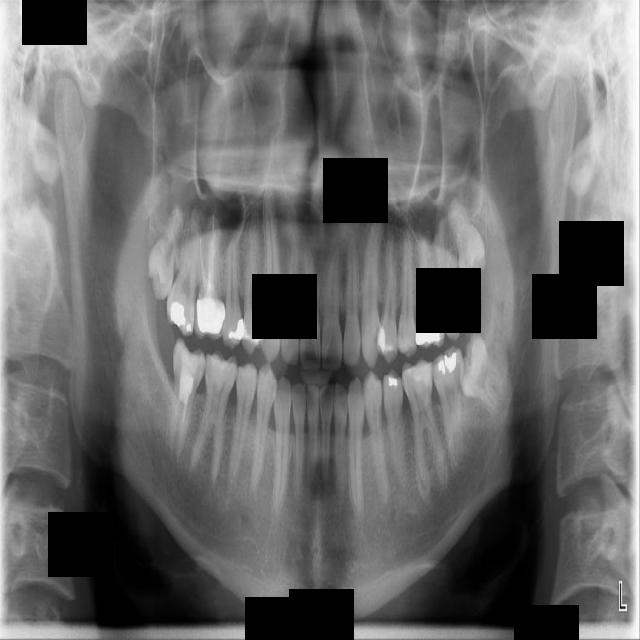3M ESPE Implant: (141, 196, 188, 302)
52: (423, 342, 473, 393), (167, 337, 209, 392), (162, 281, 200, 337), (440, 283, 474, 343), (191, 294, 228, 342), (414, 302, 446, 350), (401, 355, 434, 399), (240, 310, 265, 357), (376, 319, 399, 363), (280, 317, 299, 366), (222, 309, 244, 351), (382, 367, 404, 408)
73: (164, 373, 201, 461), (194, 205, 224, 303), (624, 618, 628, 623)
BioHorizons Implant: (429, 208, 477, 343)
BioLife Implant: (445, 192, 491, 293)
Biomet 3i Implant: (441, 329, 517, 426)
Blue Sky Bio Implant: (430, 345, 467, 480)
Caries: (163, 203, 206, 338)
Implant: (165, 338, 207, 461)
